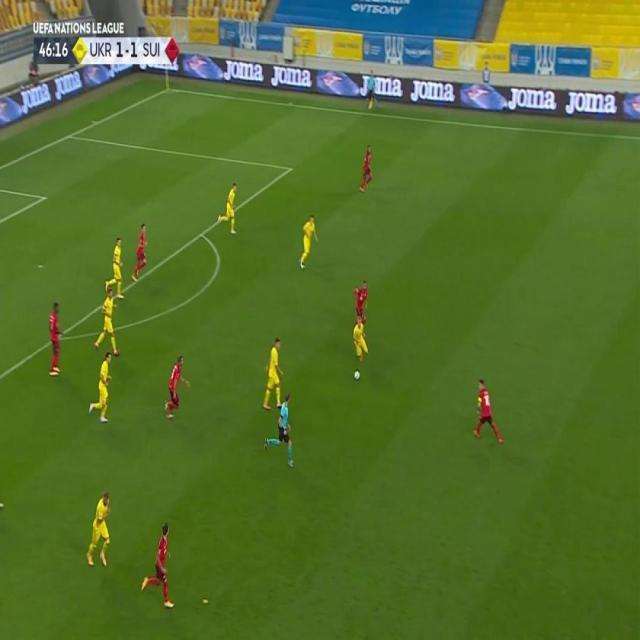ball: (353, 368, 361, 380)
player: (140, 521, 176, 613), (85, 489, 114, 569), (471, 378, 504, 446), (88, 351, 116, 426), (95, 281, 121, 358), (262, 335, 286, 412), (164, 354, 192, 416), (46, 300, 65, 377), (104, 236, 126, 302), (297, 214, 319, 271), (218, 180, 240, 235), (132, 221, 149, 280), (351, 313, 370, 364), (358, 145, 374, 194), (355, 279, 371, 323)
referee: (263, 391, 295, 471), (364, 73, 376, 112)
